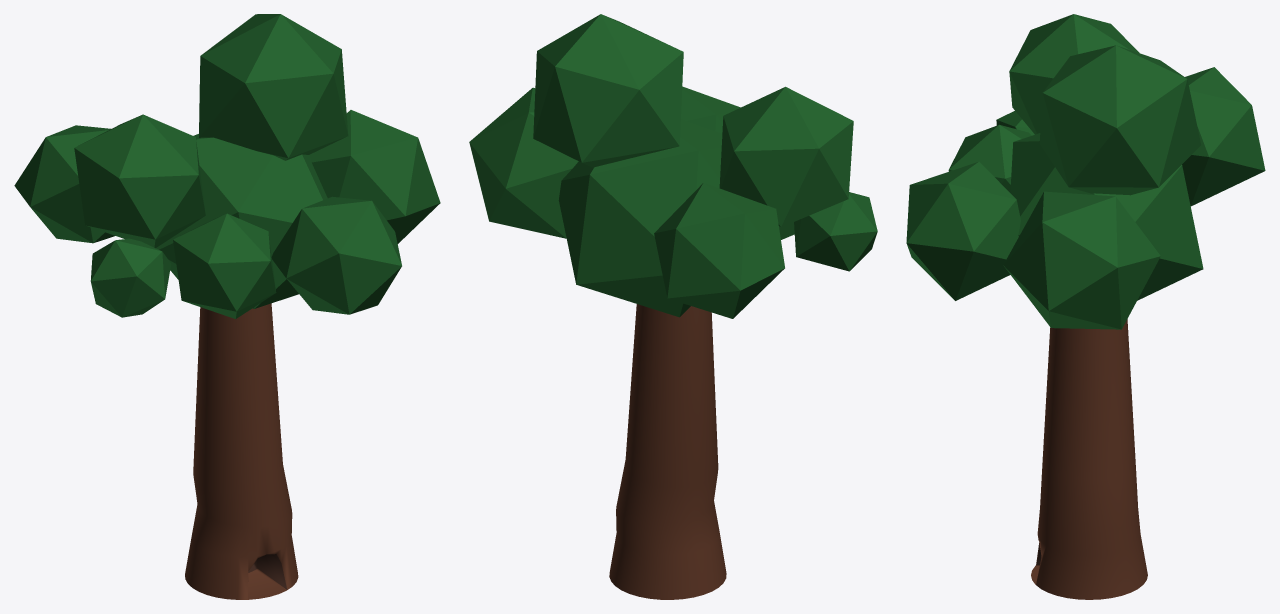
File: ArvoreBuraco.fbx
The picture shows the model from 3 angles, left to right: view 1: azimuth 30°, elevation 25°; view 2: azimuth 150°, elevation 25°; view 3: azimuth 270°, elevation 25°; orthographic projection. The views are drawn at different scales.
Parts seen in each view (by area): view 1: ArvoreBuraco; view 2: ArvoreBuraco; view 3: ArvoreBuraco.
Boxes of the visible parts, x1,y1,x2,y2 form: ArvoreBuraco: (14, 14, 440, 599); ArvoreBuraco: (469, 14, 877, 599); ArvoreBuraco: (906, 14, 1265, 599).
Bounding box in the file's own units: 3995 × 5787 × 3387.
